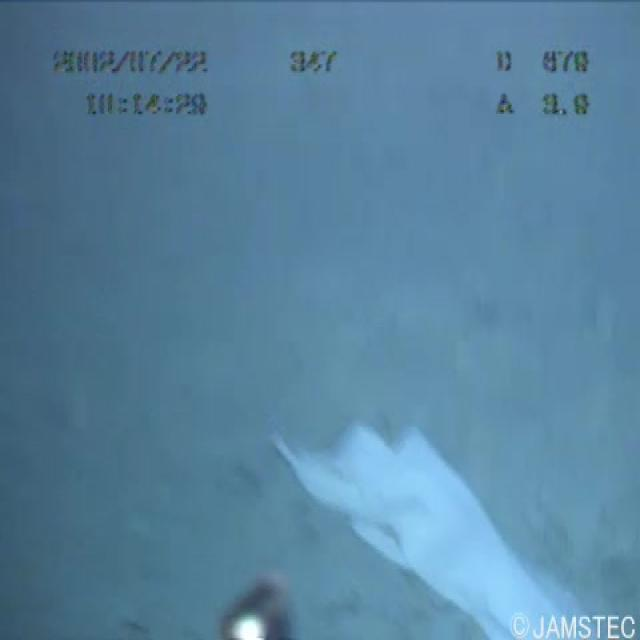plastic: (280, 412, 589, 638)
